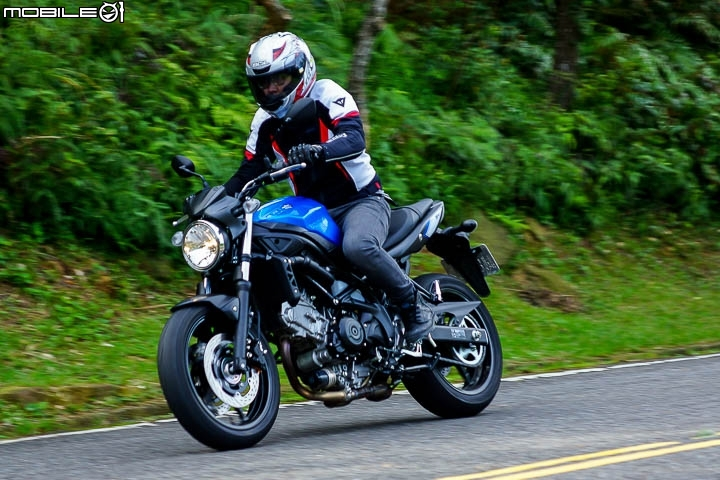helmet: (234, 39, 318, 110)
